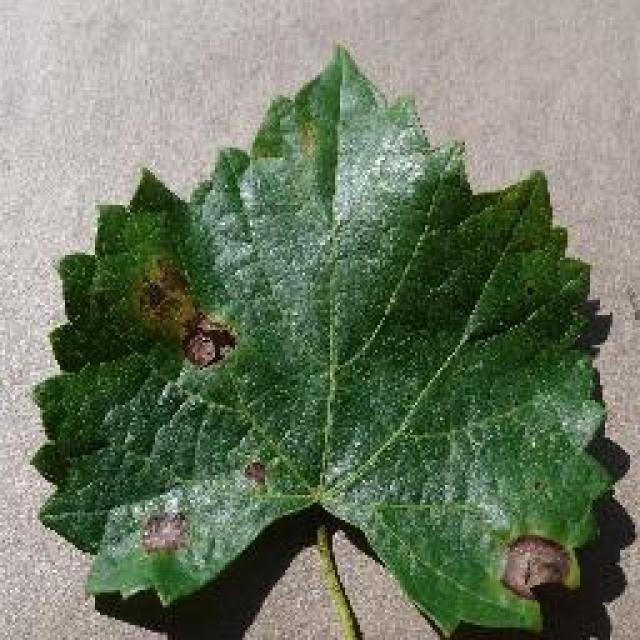Grape___Black_rot: (21, 33, 616, 638)
